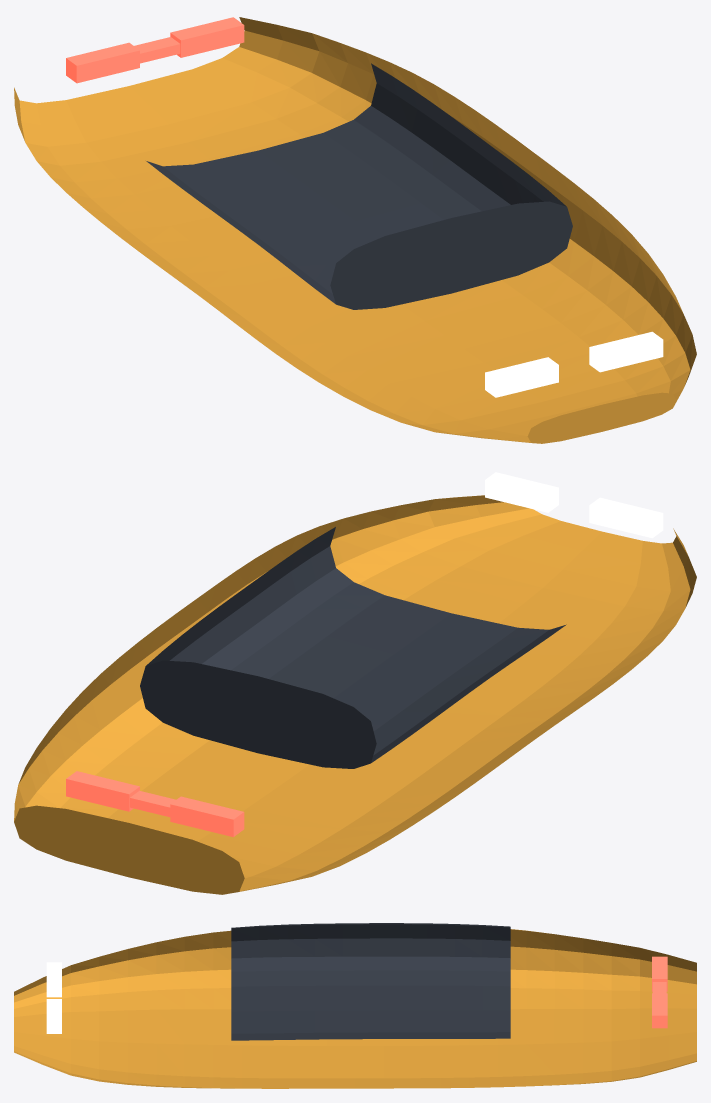
Rendered from roadster-5.glb.
The picture shows the model from 3 angles, top to bottom: view 1: azimuth 30°, elevation 25°; view 2: azimuth 150°, elevation 25°; view 3: azimuth 270°, elevation 25°; orthographic projection. The views are drawn at different scales.
Size of the model in its own units: 1.91 by 0.6702 by 4.4.
